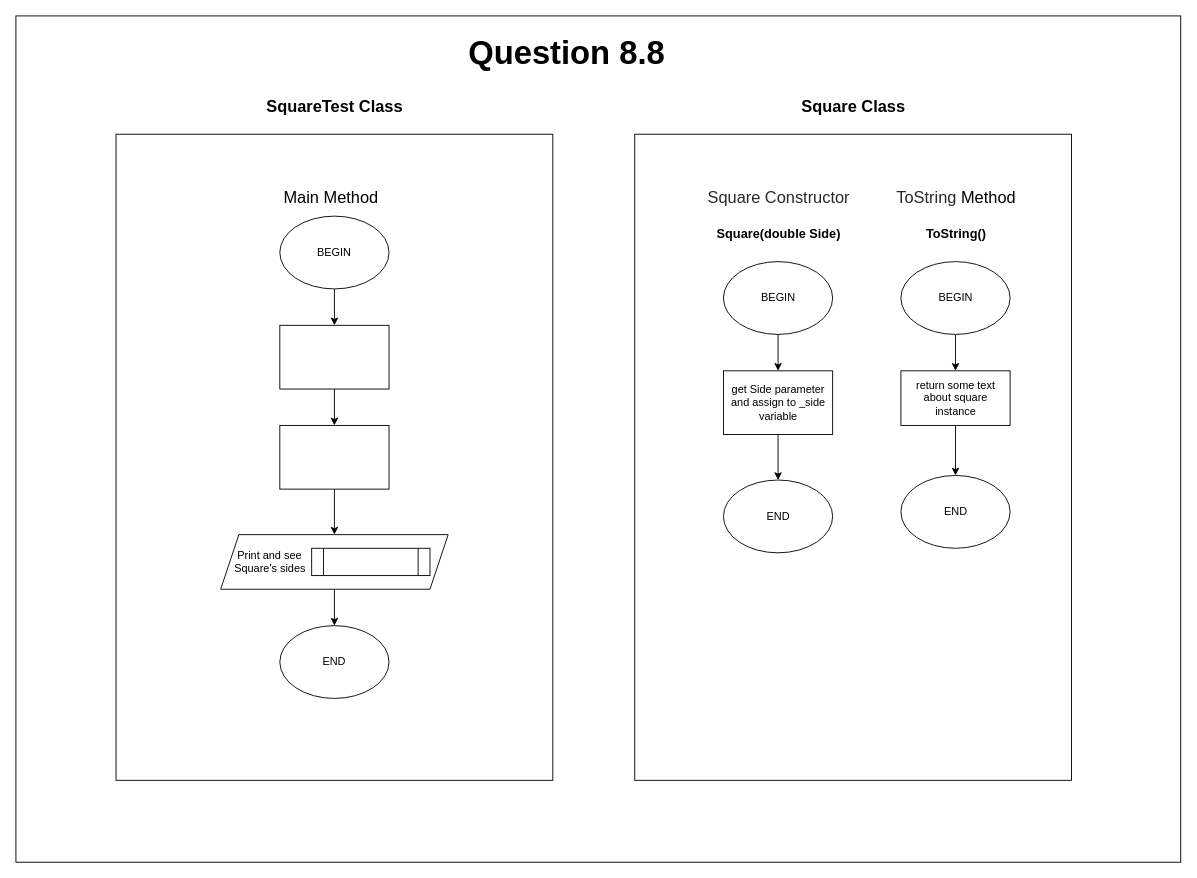
This 1197x878 diagram has some shape labels left out. Each missing label, with the centre of its shape:
"Create two instance of Square via two different constructors" belongs at (334,356).
"set side properties" belongs at (334,457).
"Square.ToString()" belongs at (370,561).
